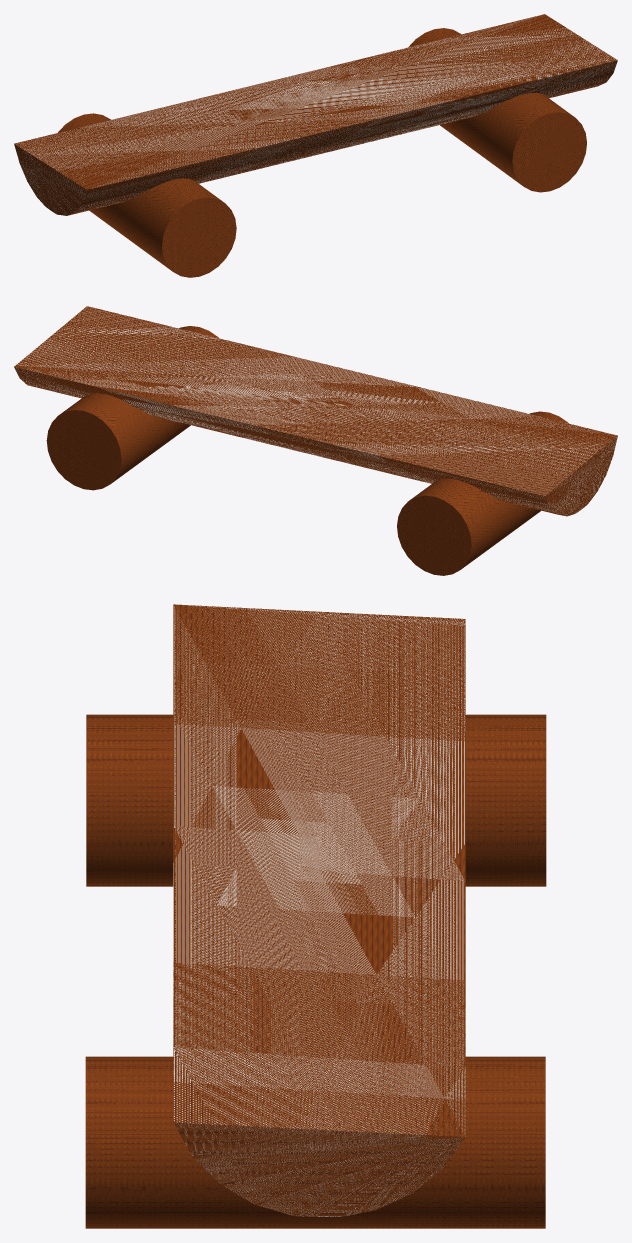
The picture shows the model from 3 angles, top to bottom: view 1: azimuth 30°, elevation 25°; view 2: azimuth 150°, elevation 25°; view 3: azimuth 270°, elevation 25°; orthographic projection. The views are drawn at different scales.
Visible parts, largest first — view 1: mesh1_mesh1-geometry, mesh5_mesh5-geometry, mesh2_mesh2-geometry; view 2: mesh1_mesh1-geometry, mesh2_mesh2-geometry, mesh5_mesh5-geometry; view 3: mesh1_mesh1-geometry, mesh5_mesh5-geometry, mesh2_mesh2-geometry.
Boxes of the visible parts, <box> form: mesh1_mesh1-geometry: <box>14,14,617,215</box>; mesh5_mesh5-geometry: <box>408,28,586,192</box>; mesh2_mesh2-geometry: <box>58,113,236,277</box>; mesh1_mesh1-geometry: <box>14,306,617,516</box>; mesh2_mesh2-geometry: <box>397,411,568,575</box>; mesh5_mesh5-geometry: <box>46,326,218,490</box>; mesh1_mesh1-geometry: <box>173,604,465,1216</box>; mesh5_mesh5-geometry: <box>85,1056,545,1228</box>; mesh2_mesh2-geometry: <box>86,714,546,886</box>.
Size of the model in its own units: 0.9249 by 0.155 by 0.3473.
